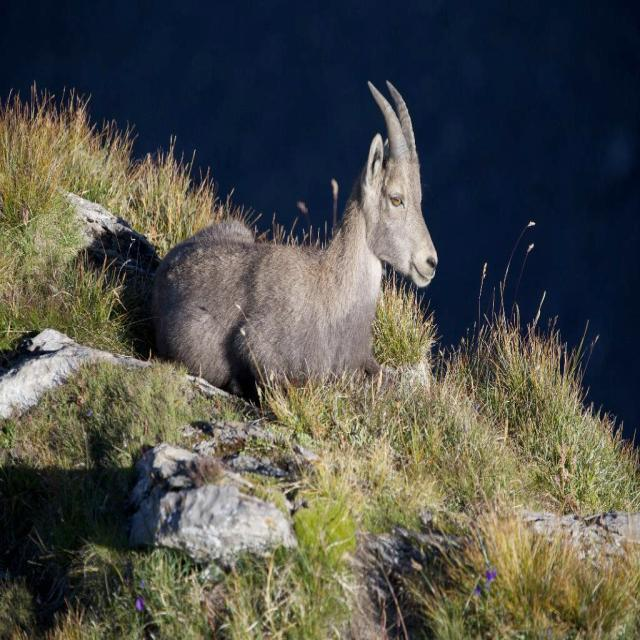Goat: (151, 78, 439, 405)
